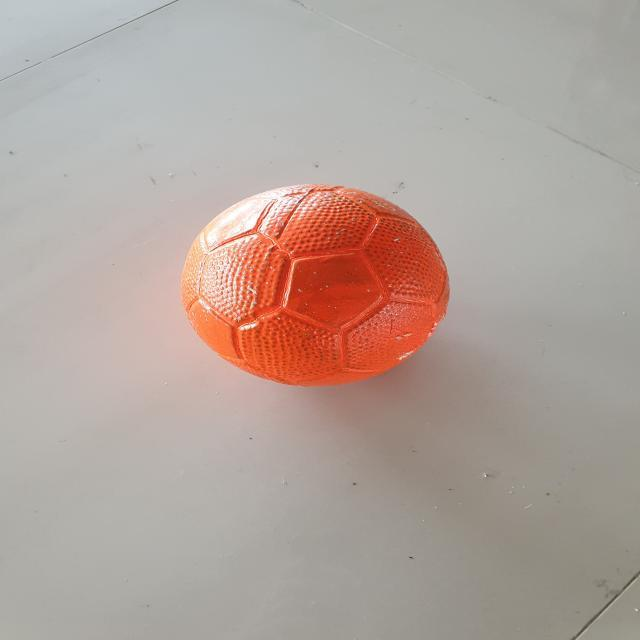bola: (162, 177, 463, 397)
